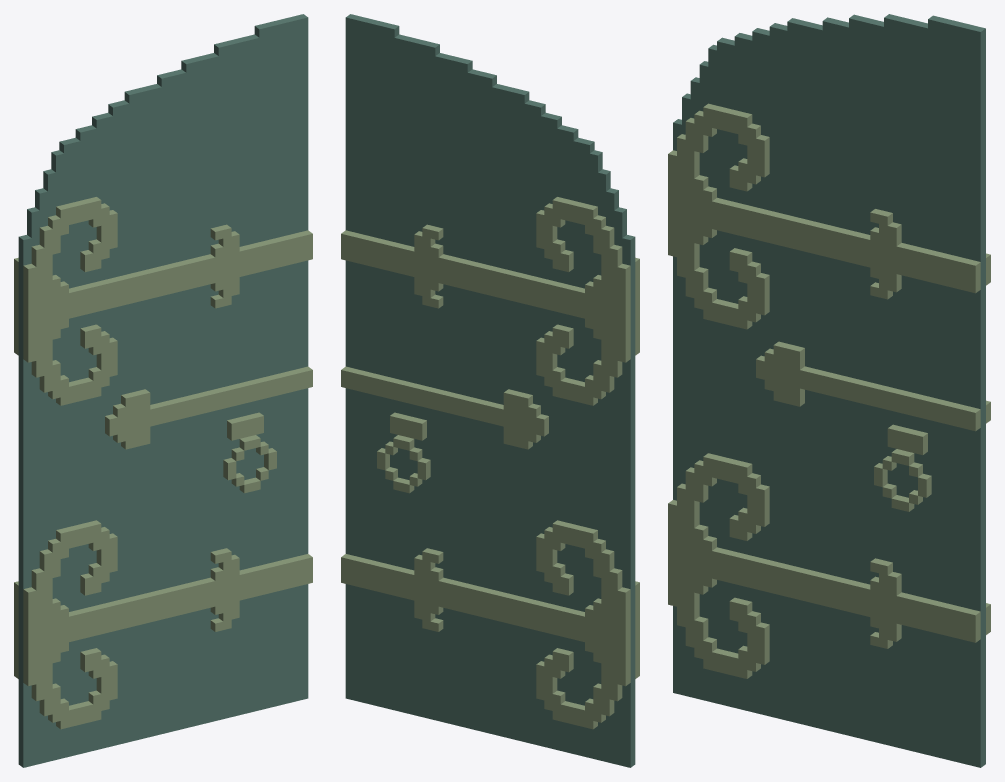
The model's file is PuertaDobleVerde-1.obj.
3 views of the same model, side by side, from view 1: azimuth 30°, elevation 25°; view 2: azimuth 150°, elevation 25°; view 3: azimuth 330°, elevation 25° (orthographic). The views are drawn at different scales.
Bounding box in the file's own units: 3.5 × 8 × 0.5.
1 material, 1 textured.
